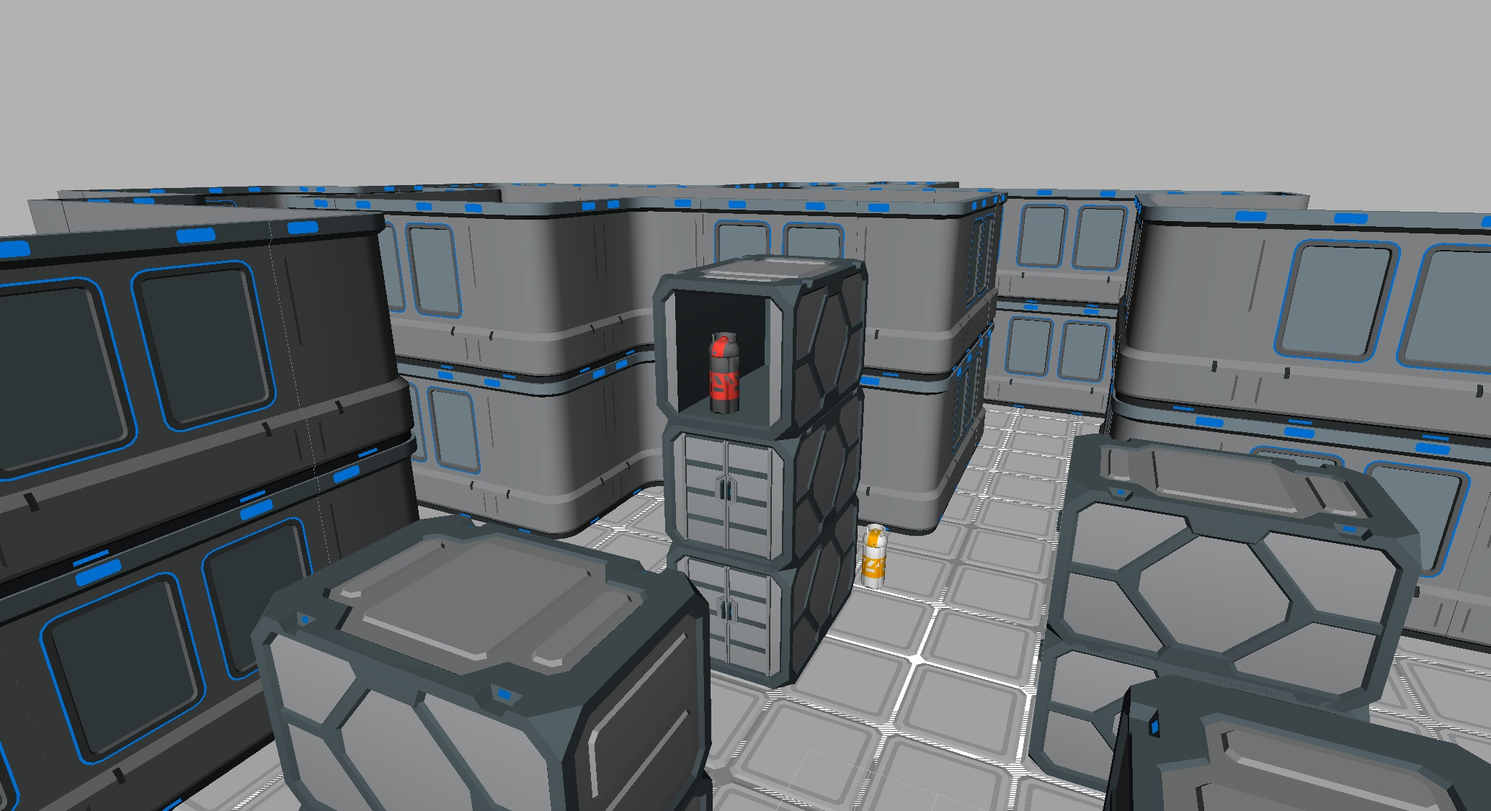red_barrel: (711, 333, 739, 413)
yellow_barrel: (860, 524, 889, 589)
